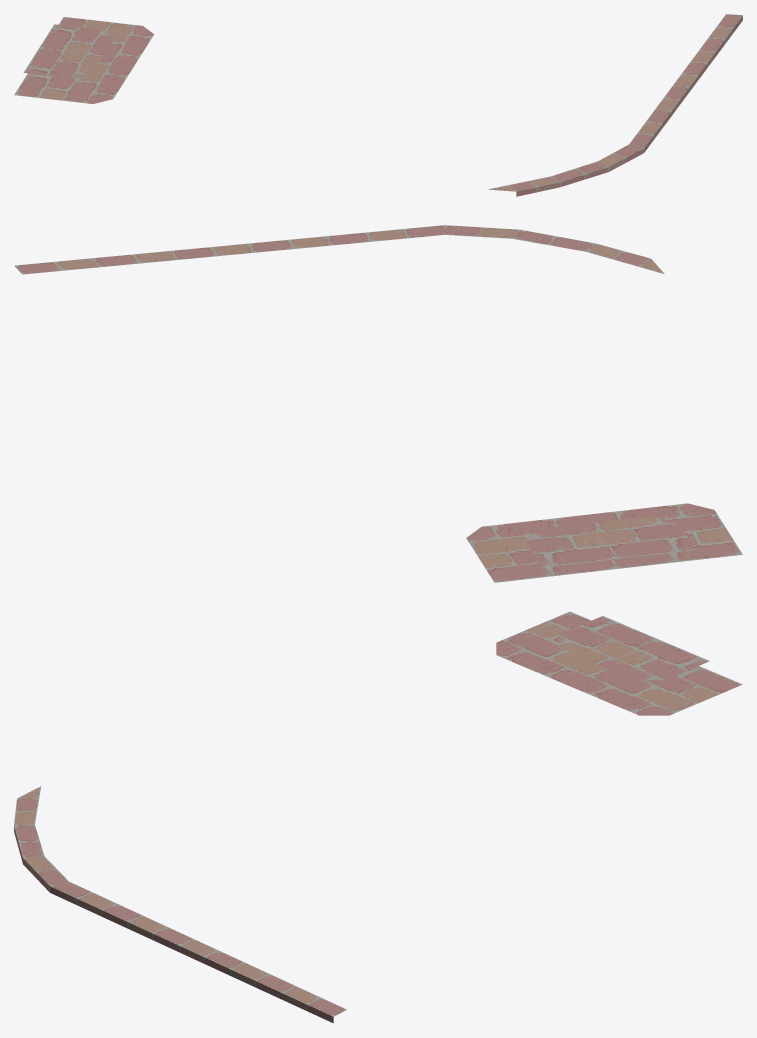
The model's file is kd_stage_135fe0_5_17.glb.
3 views of the same model, one above another, from view 1: azimuth 30°, elevation 25°; view 2: azimuth 150°, elevation 25°; view 3: azimuth 270°, elevation 25° (orthographic). The views are drawn at different scales.
Visible parts, largest first — view 1: kd_stage_135fe0_5_17; view 2: kd_stage_135fe0_5_17; view 3: kd_stage_135fe0_5_17.
Part boxes in pixels (x1,y1,x2,y2): kd_stage_135fe0_5_17: [14, 14, 742, 196]; kd_stage_135fe0_5_17: [14, 225, 742, 582]; kd_stage_135fe0_5_17: [14, 611, 742, 1023].
Bounding box in the file's own units: 4.48 × 0.135 × 3.49.
1 material, 1 textured.
